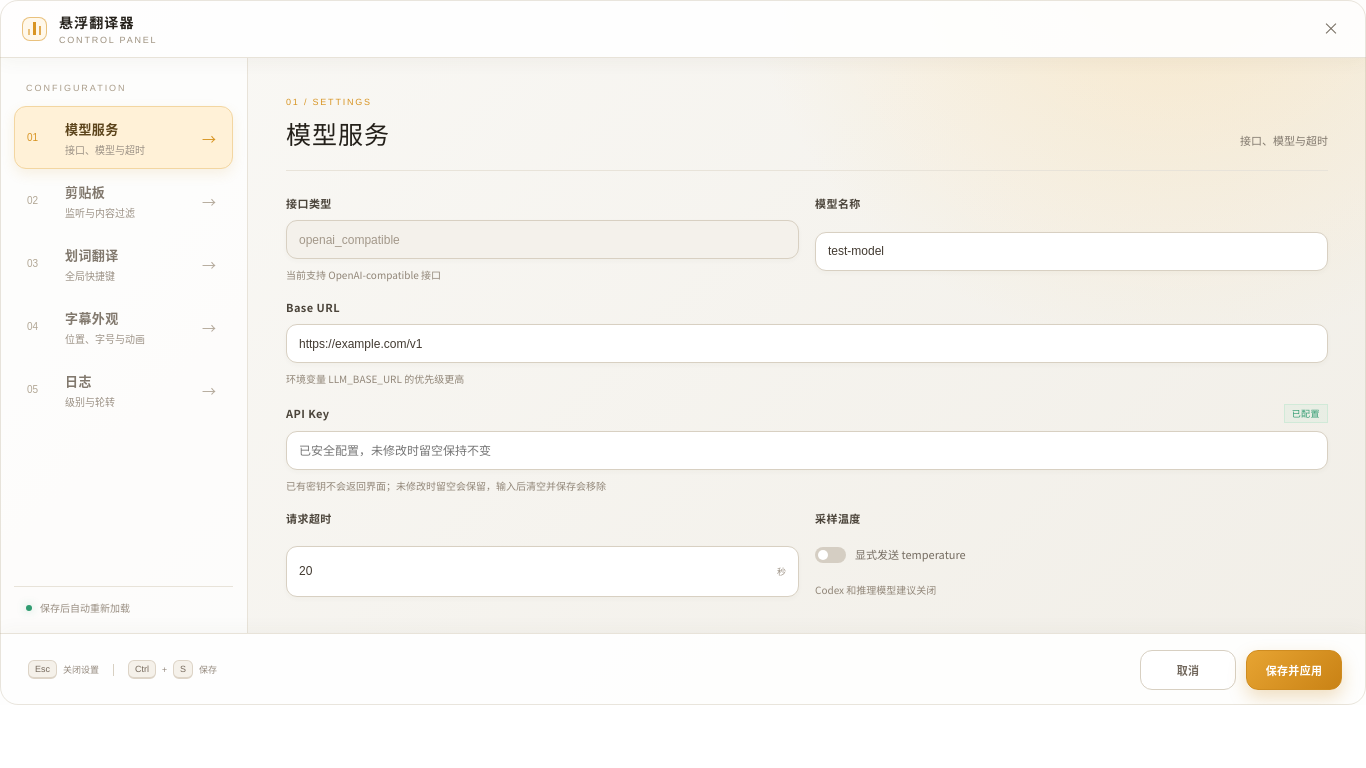
SettingsView › 按下键盘组合键录入全局快捷键
The image size is (1366, 768).
Click the button with class "nav-item" showing "03 划词翻译 全局快捷键 →" at (124, 264), box [14,232,233,295]
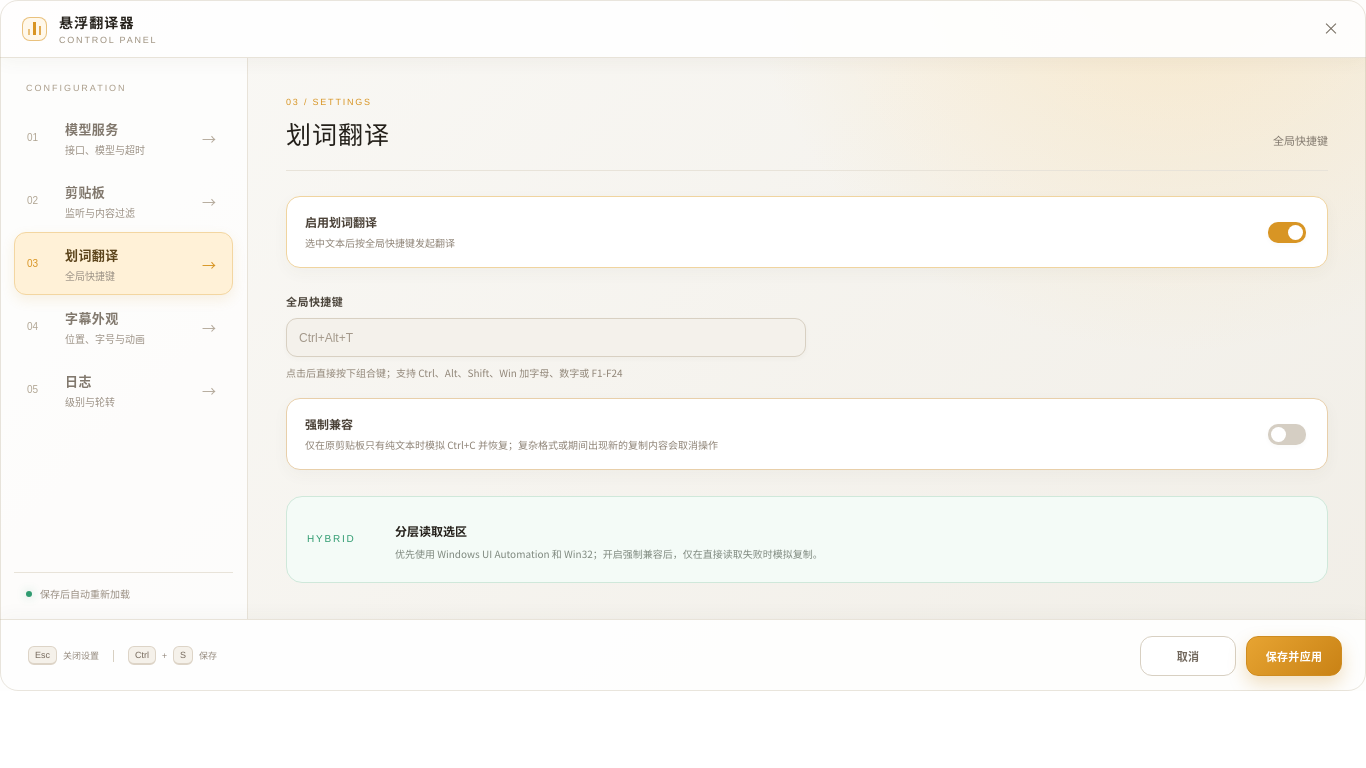
Press t in the field with test id "selection-hotkey", box [286,318,806,357]
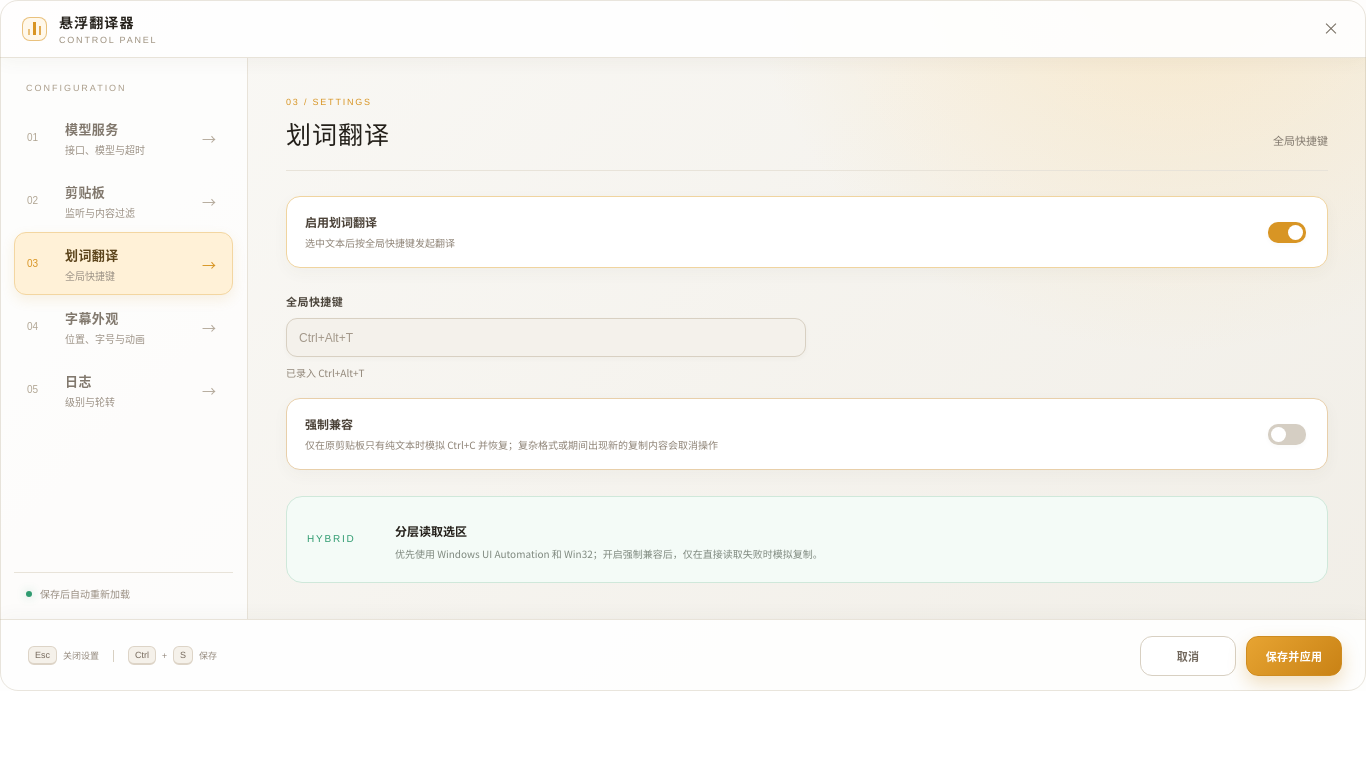
Expected: the field with test id "selection-hotkey" holds "Ctrl+Alt+T", [286,318,806,357]
Expected: the text "已录入 Ctrl+Alt+T" is shown, [286,365,365,380]
